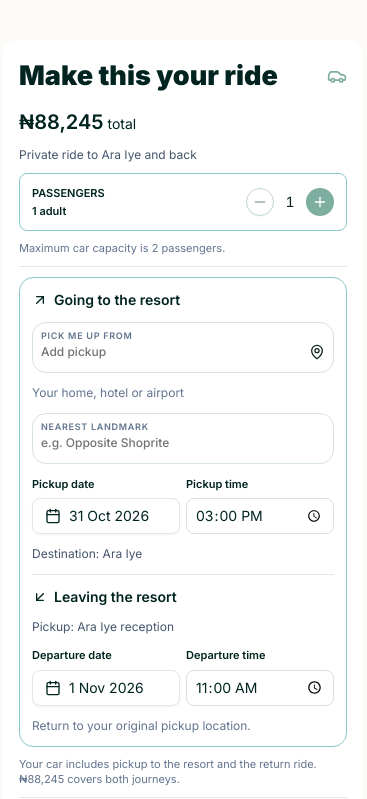
Test case: Fahari booking › request stays disabled until the form is valid
This screenshot has width=367, height=799.
Expected: the heading "Make this your ride" is shown, [19,56,278,96]
Step 1. Type "12 Admiralty Way, Lekki" into the field labelled "Pick me up from" → (171,352), box [41,340,301,364]
(page scrolled)
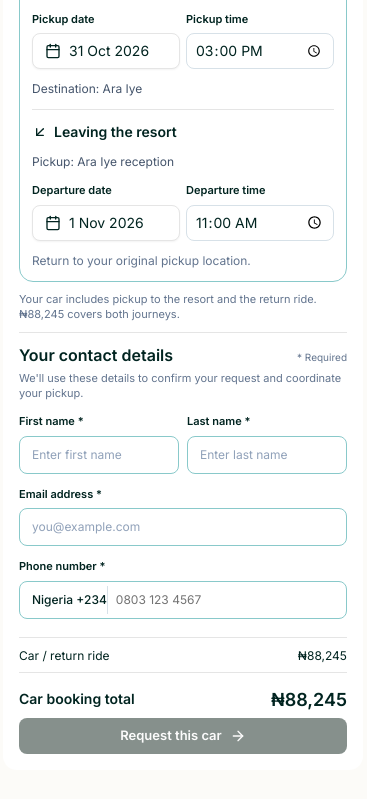
Step 2. Type "Ada" into the field labelled "First name *" → (99,455), box [19,436,179,474]
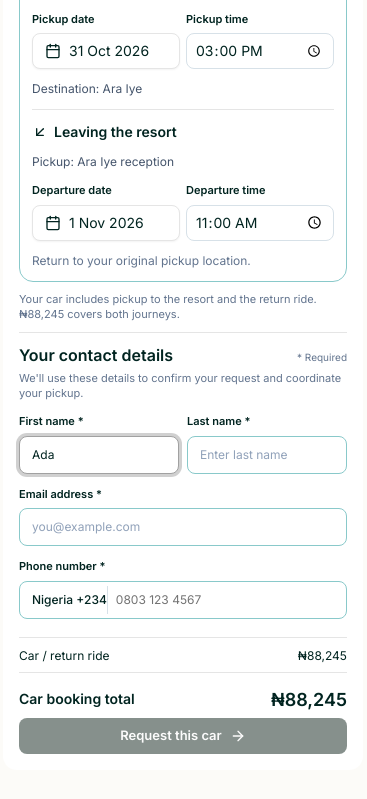
Step 3. Type "Okafor" into the field labelled "Last name *" → (267,455), box [187,436,347,474]
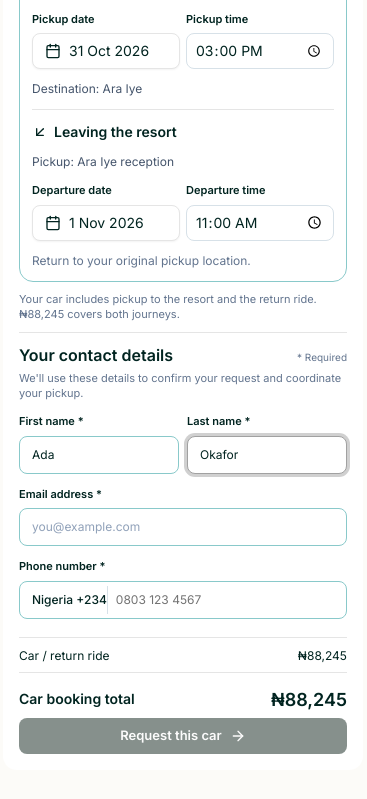
Step 4. Type "ada.okafor@gmail.com" into the field labelled "Email address *" → (183,527), box [19,508,347,546]
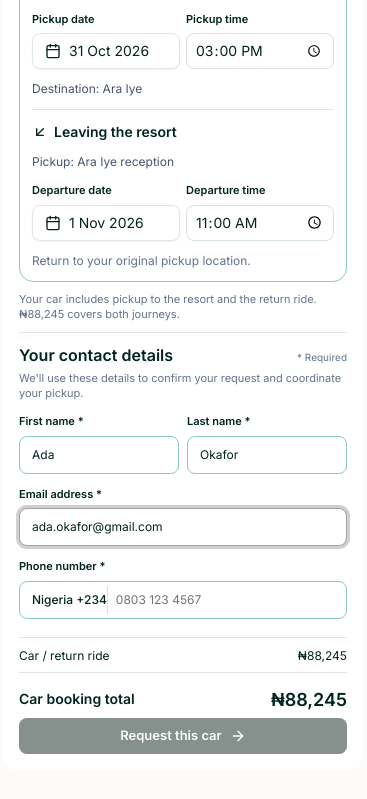
Expected: the button "Request this car" is disabled, [19,718,347,754]
Step 5. Type "08031234567" into the field labelled "Phone number *" → (227,600), box [108,582,346,618]
(page scrolled)
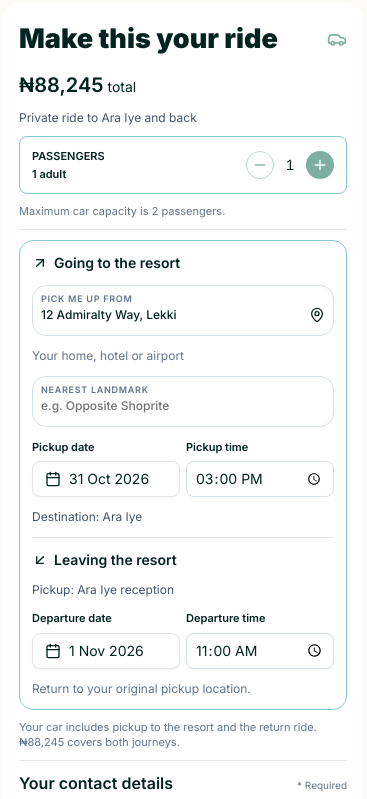
Step 6. Type "Opposite Shoprite" into the field labelled "Nearest landmark" → (183,406), box [41,394,325,418]
(page scrolled)
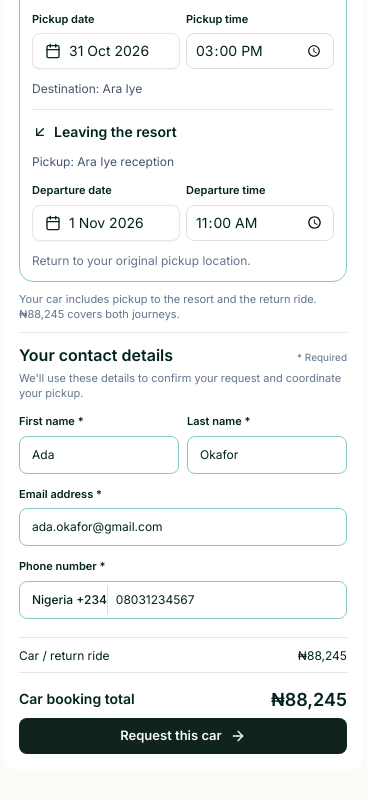
Expected: the button "Request this car" is enabled, [19,718,347,754]
